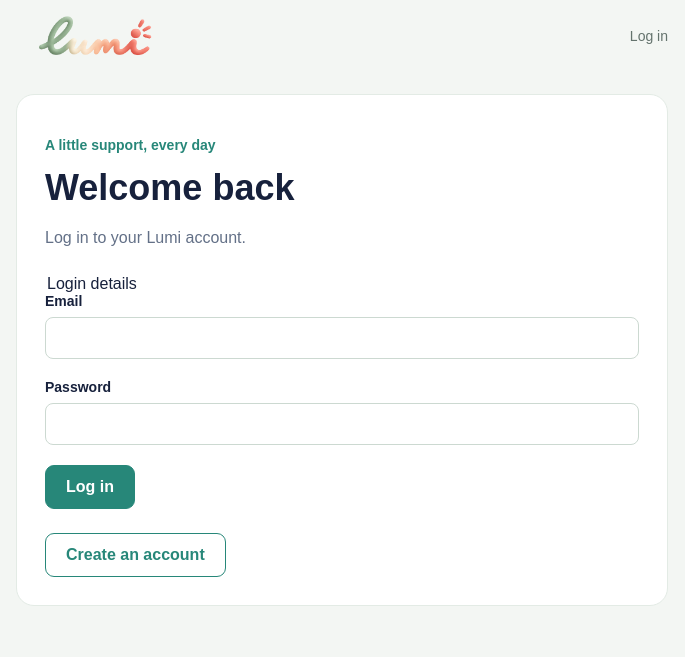
it: shows an error without starting a session for invalid credentials
In the field labelled "Email": (342, 338) [45,317,639,359], type "parent@example.test"
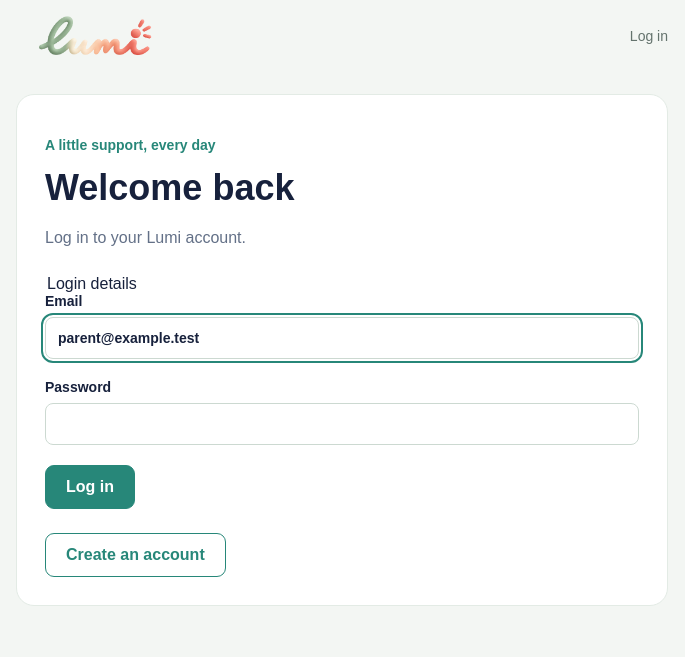
In the password field labelled "Password": (342, 424) [45,403,639,445], type "WrongPassword!"
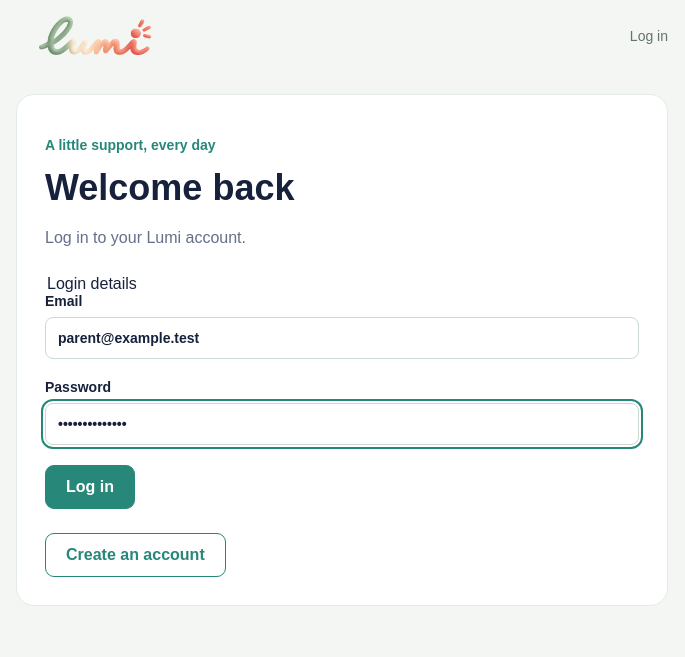
Click the button "Log in": (90, 487) [45,465,135,509]
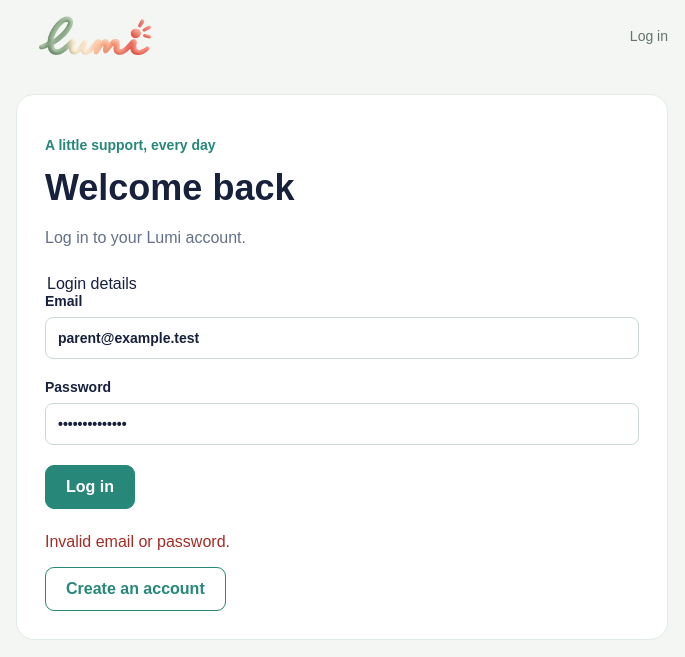
Expected: the message shows "Invalid email or password", [45,533,230,550]
